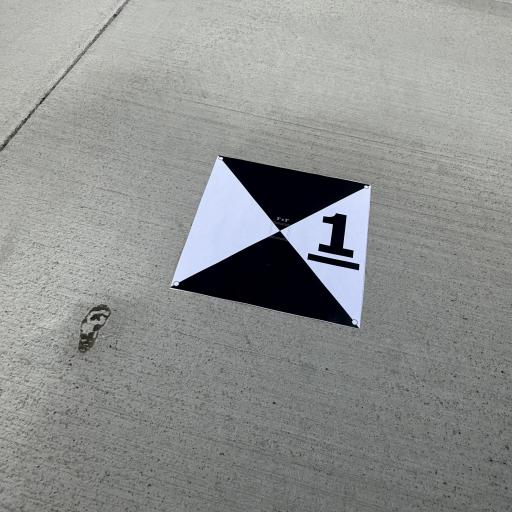target1: (170, 149, 383, 336)
